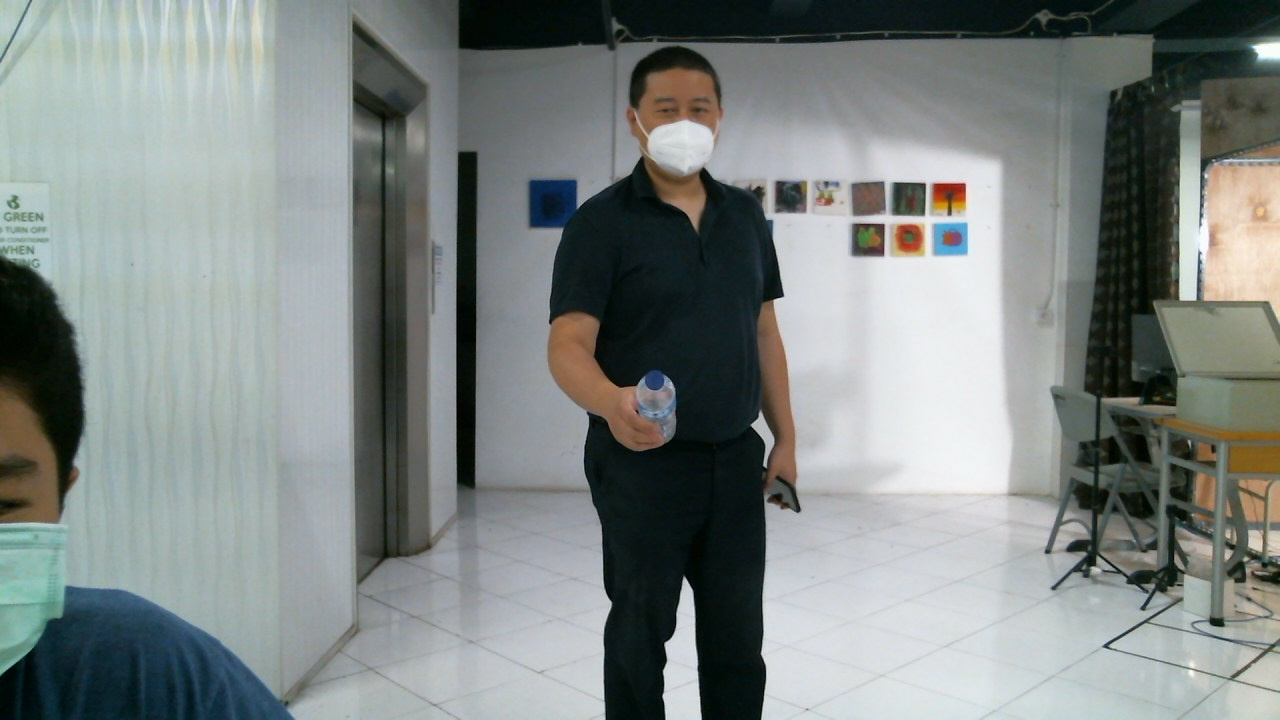Bottle: (633, 370, 674, 443)
